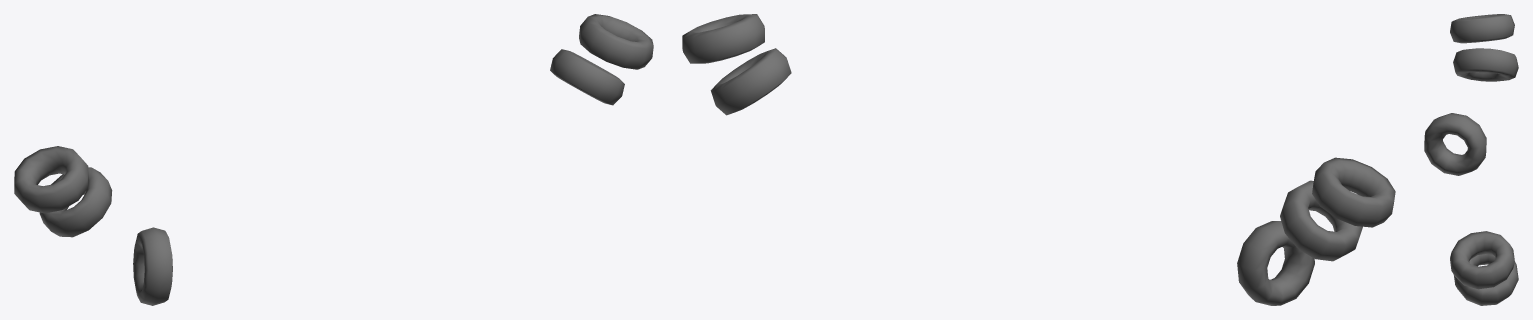
Rendered from Earring_15.fbx.
3 renders of one model, left to right at view 1: azimuth 30°, elevation 25°; view 2: azimuth 150°, elevation 25°; view 3: azimuth 270°, elevation 25°, orthographic. The views are drawn at different scales.
Visible parts, largest first — view 1: Earring_15; view 2: Earring_15; view 3: Earring_15.
Part boxes in pixels (bbox=[...]): Earring_15: bbox=[14, 14, 653, 305]; Earring_15: bbox=[682, 14, 1395, 305]; Earring_15: bbox=[1424, 14, 1518, 305].
Bounding box in the file's own units: 83.07 × 19.4 × 12.86.
